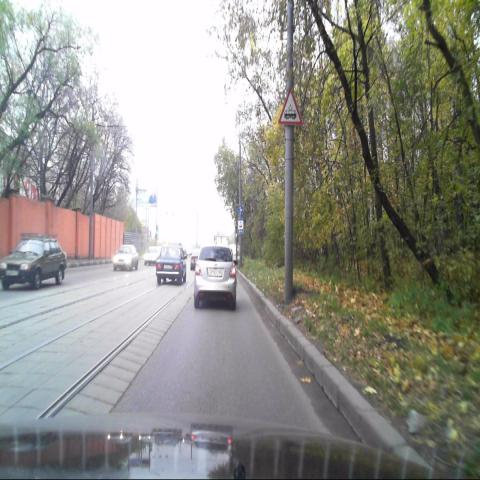1_5: (278, 89, 301, 126)
